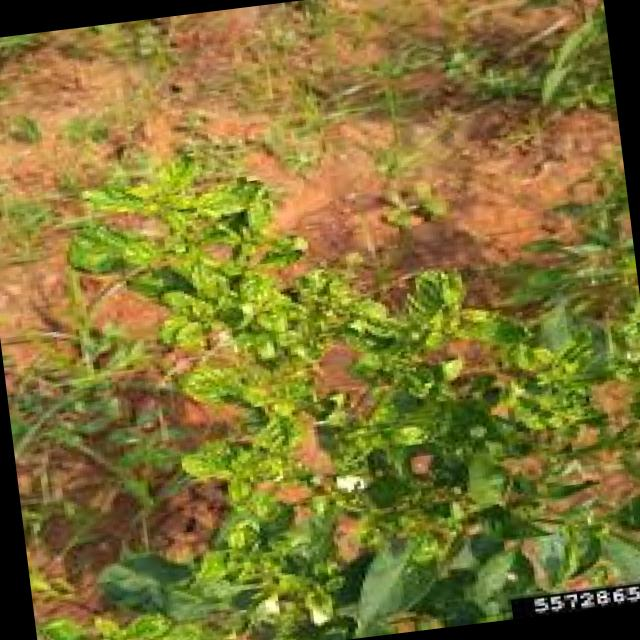Chilli_Leaf_Curl: (0, 0, 640, 640), (52, 130, 389, 432)
